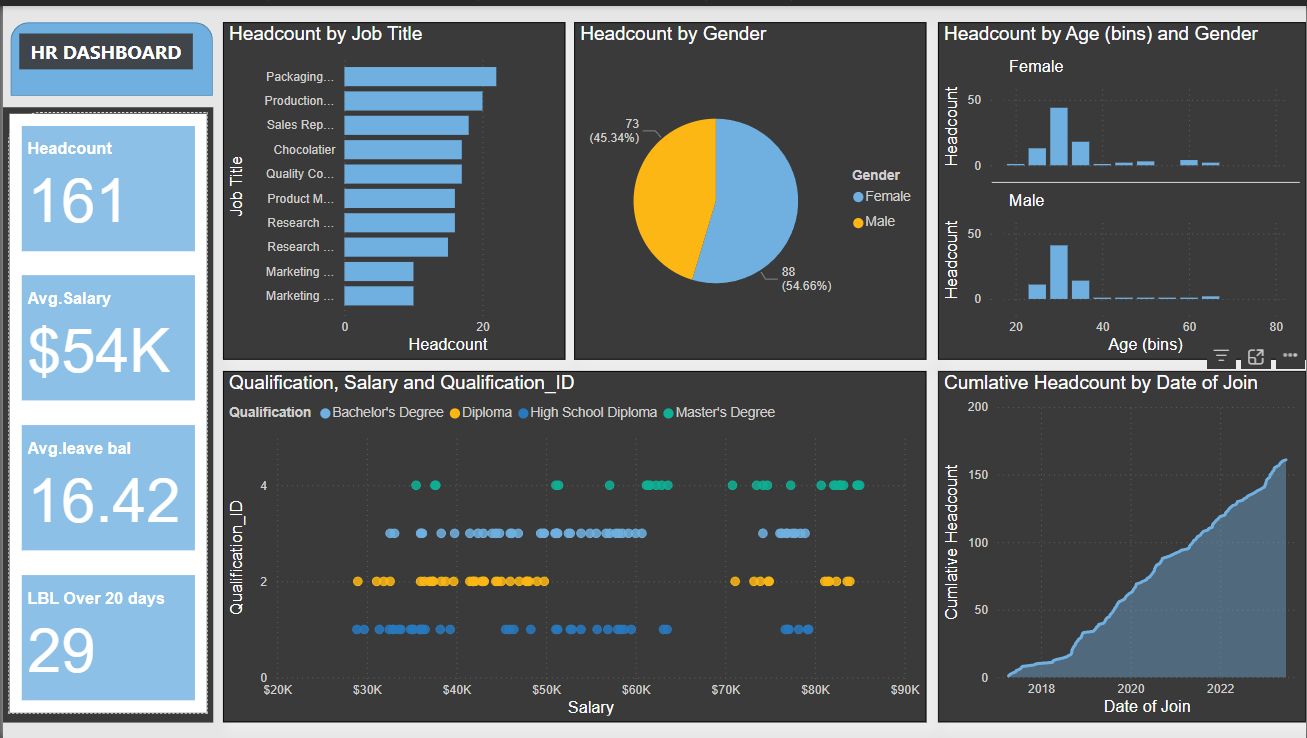

What the dashboard file says about the page in this screenshot:
{"tool":"powerbi","page":{"name":"Page 10","canvas":[1280,720],"ordinal":9},"visuals":[{"type":"cardVisual","fields":{"Data":["Staff.Headcount","Staff.Avg.Salary","Staff.Avg.leave bal","Staff.OLB Over 20 days"]},"box":[0,99.4,206.1,603.7],"z":0},{"type":"clusteredBarChart","fields":{"Y":["Staff.Headcount"],"Category":["Staff.Job Title"]},"box":[216.4,16.2,335.9,330.9],"z":1000},{"type":"pieChart","fields":{"Category":["Staff.Gender"],"Y":["Staff.Headcount"]},"box":[561,16.2,345.8,330.9],"z":2000},{"type":"columnChart","fields":{"Y":["Staff.Headcount"],"Category":["Staff.Age (bins)"],"Rows":["Staff.Gender"]},"box":[918,16.2,362,330.9],"z":3000},{"type":"scatterChart","fields":{"X":["Staff.Salary"],"Y":["Qual.Qualification_ID"],"Series":["Qual.Qualification"]},"box":[216.4,358.3,690.4,344.6],"z":4000},{"type":"lineChart","fields":{"Y":["Staff.Cumlative Headcount"],"Category":["Staff.Date of Join"]},"box":[918,358.3,362,344.6],"z":5000},{"type":"shape","box":[7.4,16,198.8,72.4],"z":5001},{"type":"textbox","box":[16,27,170,35],"z":5002}]}

Visuals, with their boxes in screenshot pixels (x1, y1, x2, y2), scaled from the page's 1280x720 canvas onto the 1307x738 screenshot:
cardVisual - Staff.Headcount x Staff.Avg.Salary: <region>0, 102, 210, 721</region>
clusteredBarChart - Staff.Headcount x Staff.Job Title: <region>221, 17, 564, 356</region>
pieChart - Staff.Gender x Staff.Headcount: <region>573, 17, 926, 356</region>
columnChart - Staff.Headcount x Staff.Age (bins): <region>937, 17, 1306, 356</region>
scatterChart - Staff.Salary x Qual.Qualification_ID: <region>221, 367, 926, 720</region>
lineChart - Staff.Cumlative Headcount x Staff.Date of Join: <region>937, 367, 1306, 720</region>
shape: <region>8, 16, 211, 91</region>
textbox: <region>16, 28, 190, 64</region>
